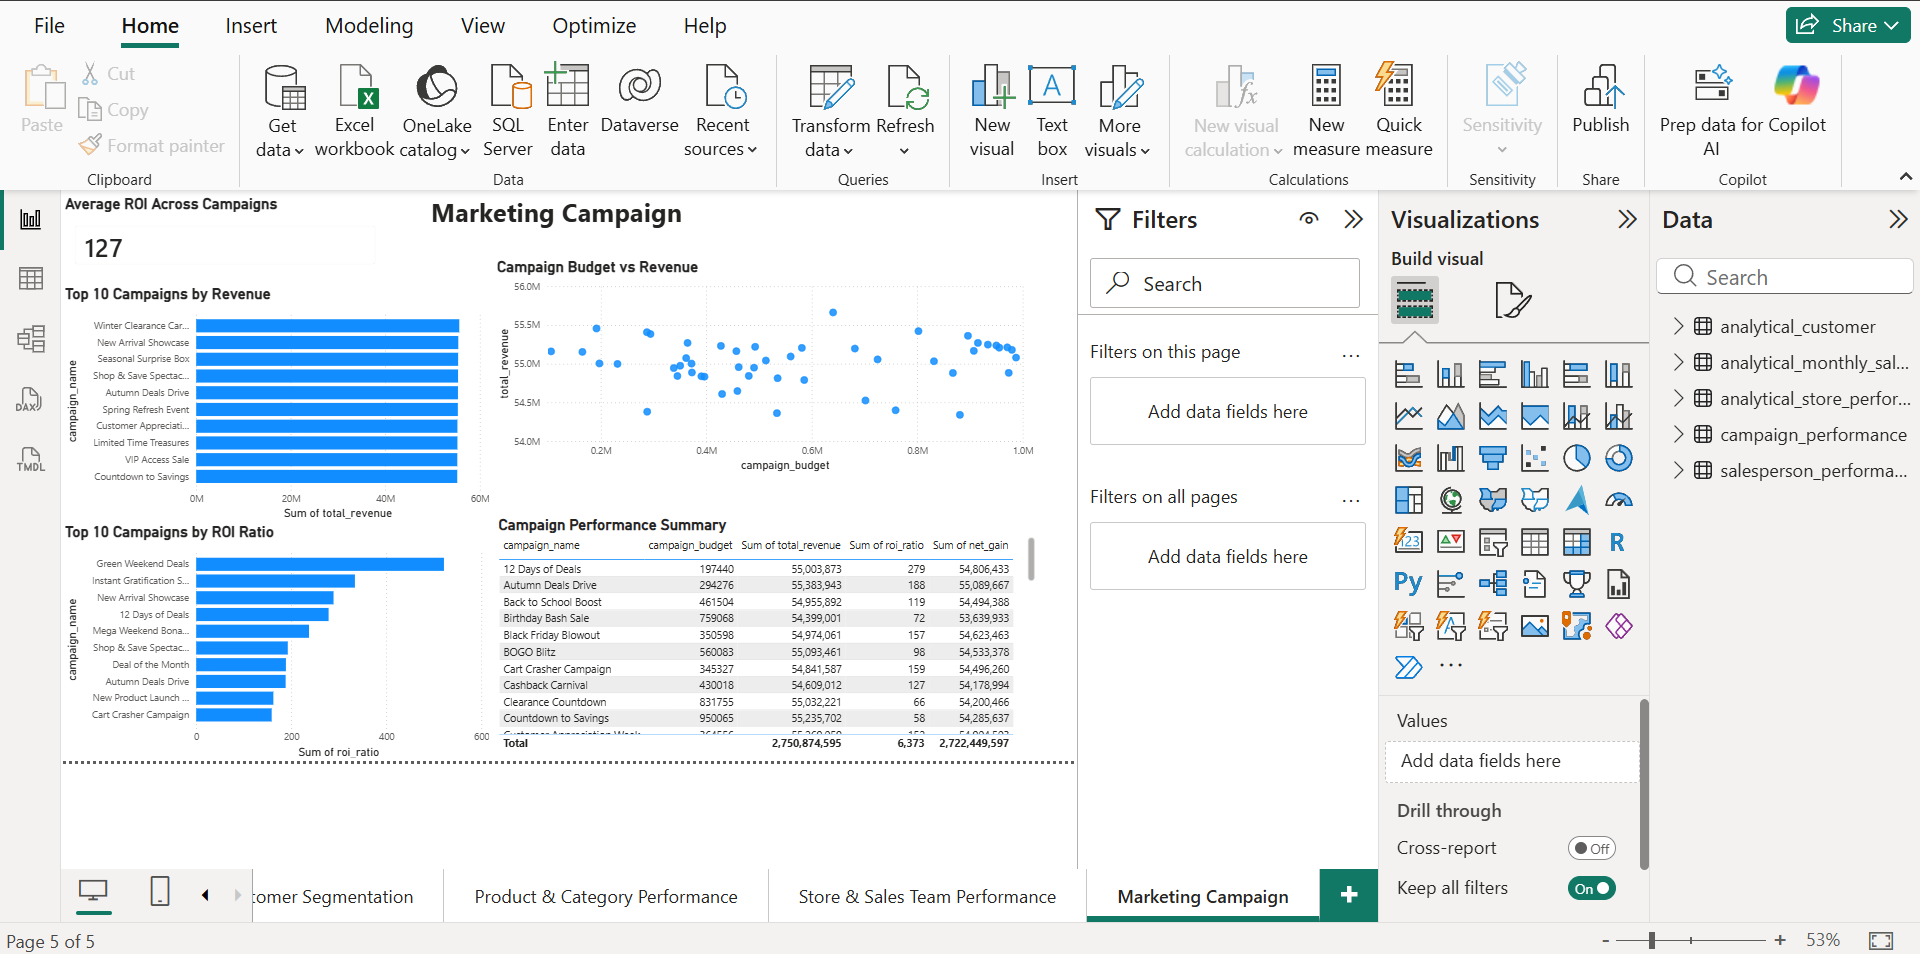

The dashboard page shown, as its layout file describes it:
{"tool":"powerbi","page":{"name":"Marketing Campaign","canvas":[1280,720],"ordinal":4},"visuals":[{"type":"textbox","box":[461.1,0,357.2,62.4],"z":0},{"type":"clusteredBarChart","title":"Top 10 Campaigns by Revenue","fields":{"Category":["campaign_performance.campaign_name"],"Y":["Sum(campaign_performance.total_revenue)"]},"box":[0,119.1,544.3,300.5],"z":1000},{"type":"clusteredBarChart","title":"Top 10 Campaigns by ROI Ratio","fields":{"Category":["campaign_performance.campaign_name"],"Y":["Sum(campaign_performance.roi_ratio)"]},"box":[0,419.5,544.3,300.5],"z":2000},{"type":"scatterChart","title":"Campaign Budget vs Revenue","fields":{"X":["campaign_performance.campaign_budget"],"Y":["campaign_performance.total_revenue"]},"box":[544.3,85,686,274],"z":3000},{"type":"cardVisual","title":"Average ROI Across Campaigns","fields":{"Data":["Avg(campaign_performance.roi_ratio)"]},"box":[0,5.7,413.9,105.8],"z":4000},{"type":"tableEx","title":"Campaign Performance Summary","fields":{"Values":["campaign_performance.campaign_name","campaign_performance.campaign_budget","Sum(campaign_performance.total_revenue)","Sum(campaign_performance.roi_ratio)","Sum(campaign_performance.net_gain)"]},"box":[546.1,410.1,686,300.5],"z":5000}]}

Visuals, with their boxes on the page's 1280x720 design canvas (x1, y1, x2, y2). These are canvas units, not pixel positions in the 1920x954 screenshot, which may show the page scaled, cropped or inside an application window:
textbox: [left=461, top=0, right=818, bottom=62]
"Top 10 Campaigns by Revenue" clusteredBarChart: [left=0, top=119, right=544, bottom=420]
"Top 10 Campaigns by ROI Ratio" clusteredBarChart: [left=0, top=420, right=544, bottom=720]
"Campaign Budget vs Revenue" scatterChart: [left=544, top=85, right=1230, bottom=359]
"Average ROI Across Campaigns" cardVisual: [left=0, top=6, right=414, bottom=112]
"Campaign Performance Summary" tableEx: [left=546, top=410, right=1232, bottom=711]
